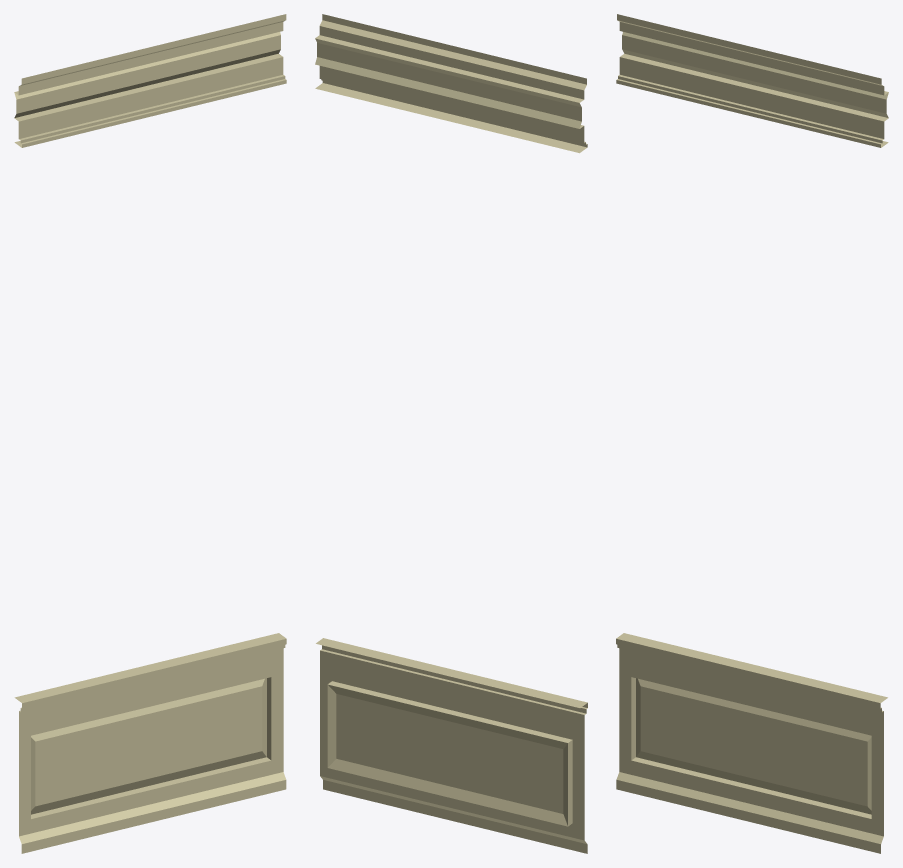
The model's file is F_ModularWal_Bottoml.fbx.
The picture shows the model from 3 angles, left to right: view 1: azimuth 30°, elevation 25°; view 2: azimuth 150°, elevation 25°; view 3: azimuth 330°, elevation 25°; orthographic projection.
Parts seen in each view (by area): view 1: F_WallBottom.002, F_WallTop.002; view 2: F_WallBottom.002, F_WallTop.002; view 3: F_WallBottom.002, F_WallTop.002.
Boxes of the visible parts, x1,y1,x2,y2 form: F_WallBottom.002: (14, 633, 286, 853); F_WallTop.002: (14, 14, 286, 147); F_WallBottom.002: (316, 638, 587, 853); F_WallTop.002: (315, 14, 587, 153); F_WallBottom.002: (616, 633, 887, 853); F_WallTop.002: (616, 14, 888, 147).
Size of the model in its own units: 128 by 358 by 6.75.
